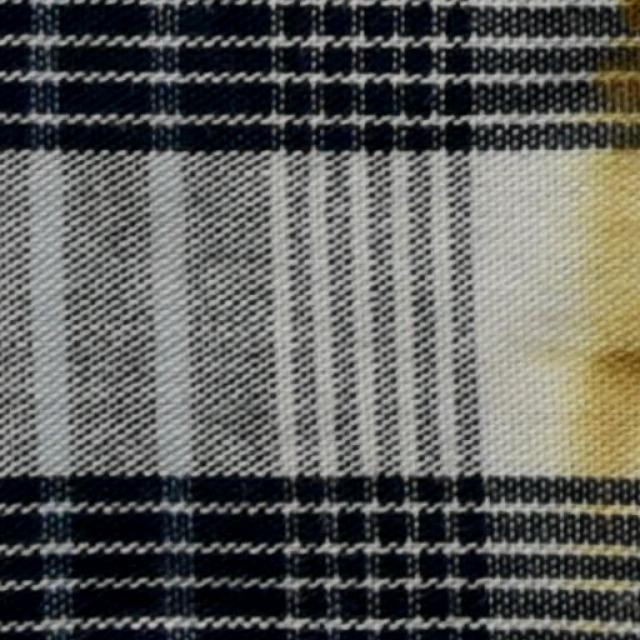Stain: (566, 6, 630, 499)
